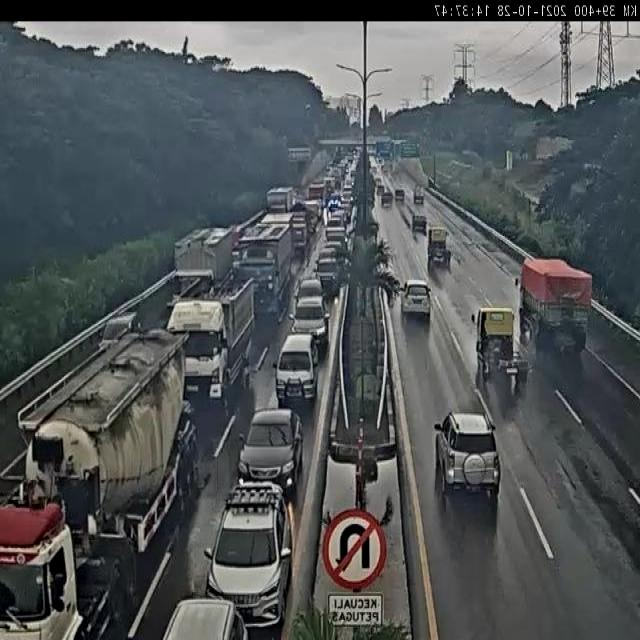Car: (203, 480, 292, 627), (427, 403, 500, 508), (235, 407, 302, 500), (154, 596, 250, 638), (274, 331, 322, 409), (290, 294, 329, 352), (99, 312, 138, 352), (400, 280, 431, 322), (314, 252, 342, 297), (295, 276, 326, 311), (412, 212, 427, 234), (381, 189, 393, 207), (394, 188, 404, 202)
Truck: (0, 329, 202, 629), (158, 267, 255, 415), (513, 248, 599, 347), (227, 218, 294, 322), (158, 226, 234, 314), (472, 306, 528, 394), (284, 205, 322, 249), (263, 187, 299, 216), (427, 226, 451, 269), (414, 187, 424, 204)
